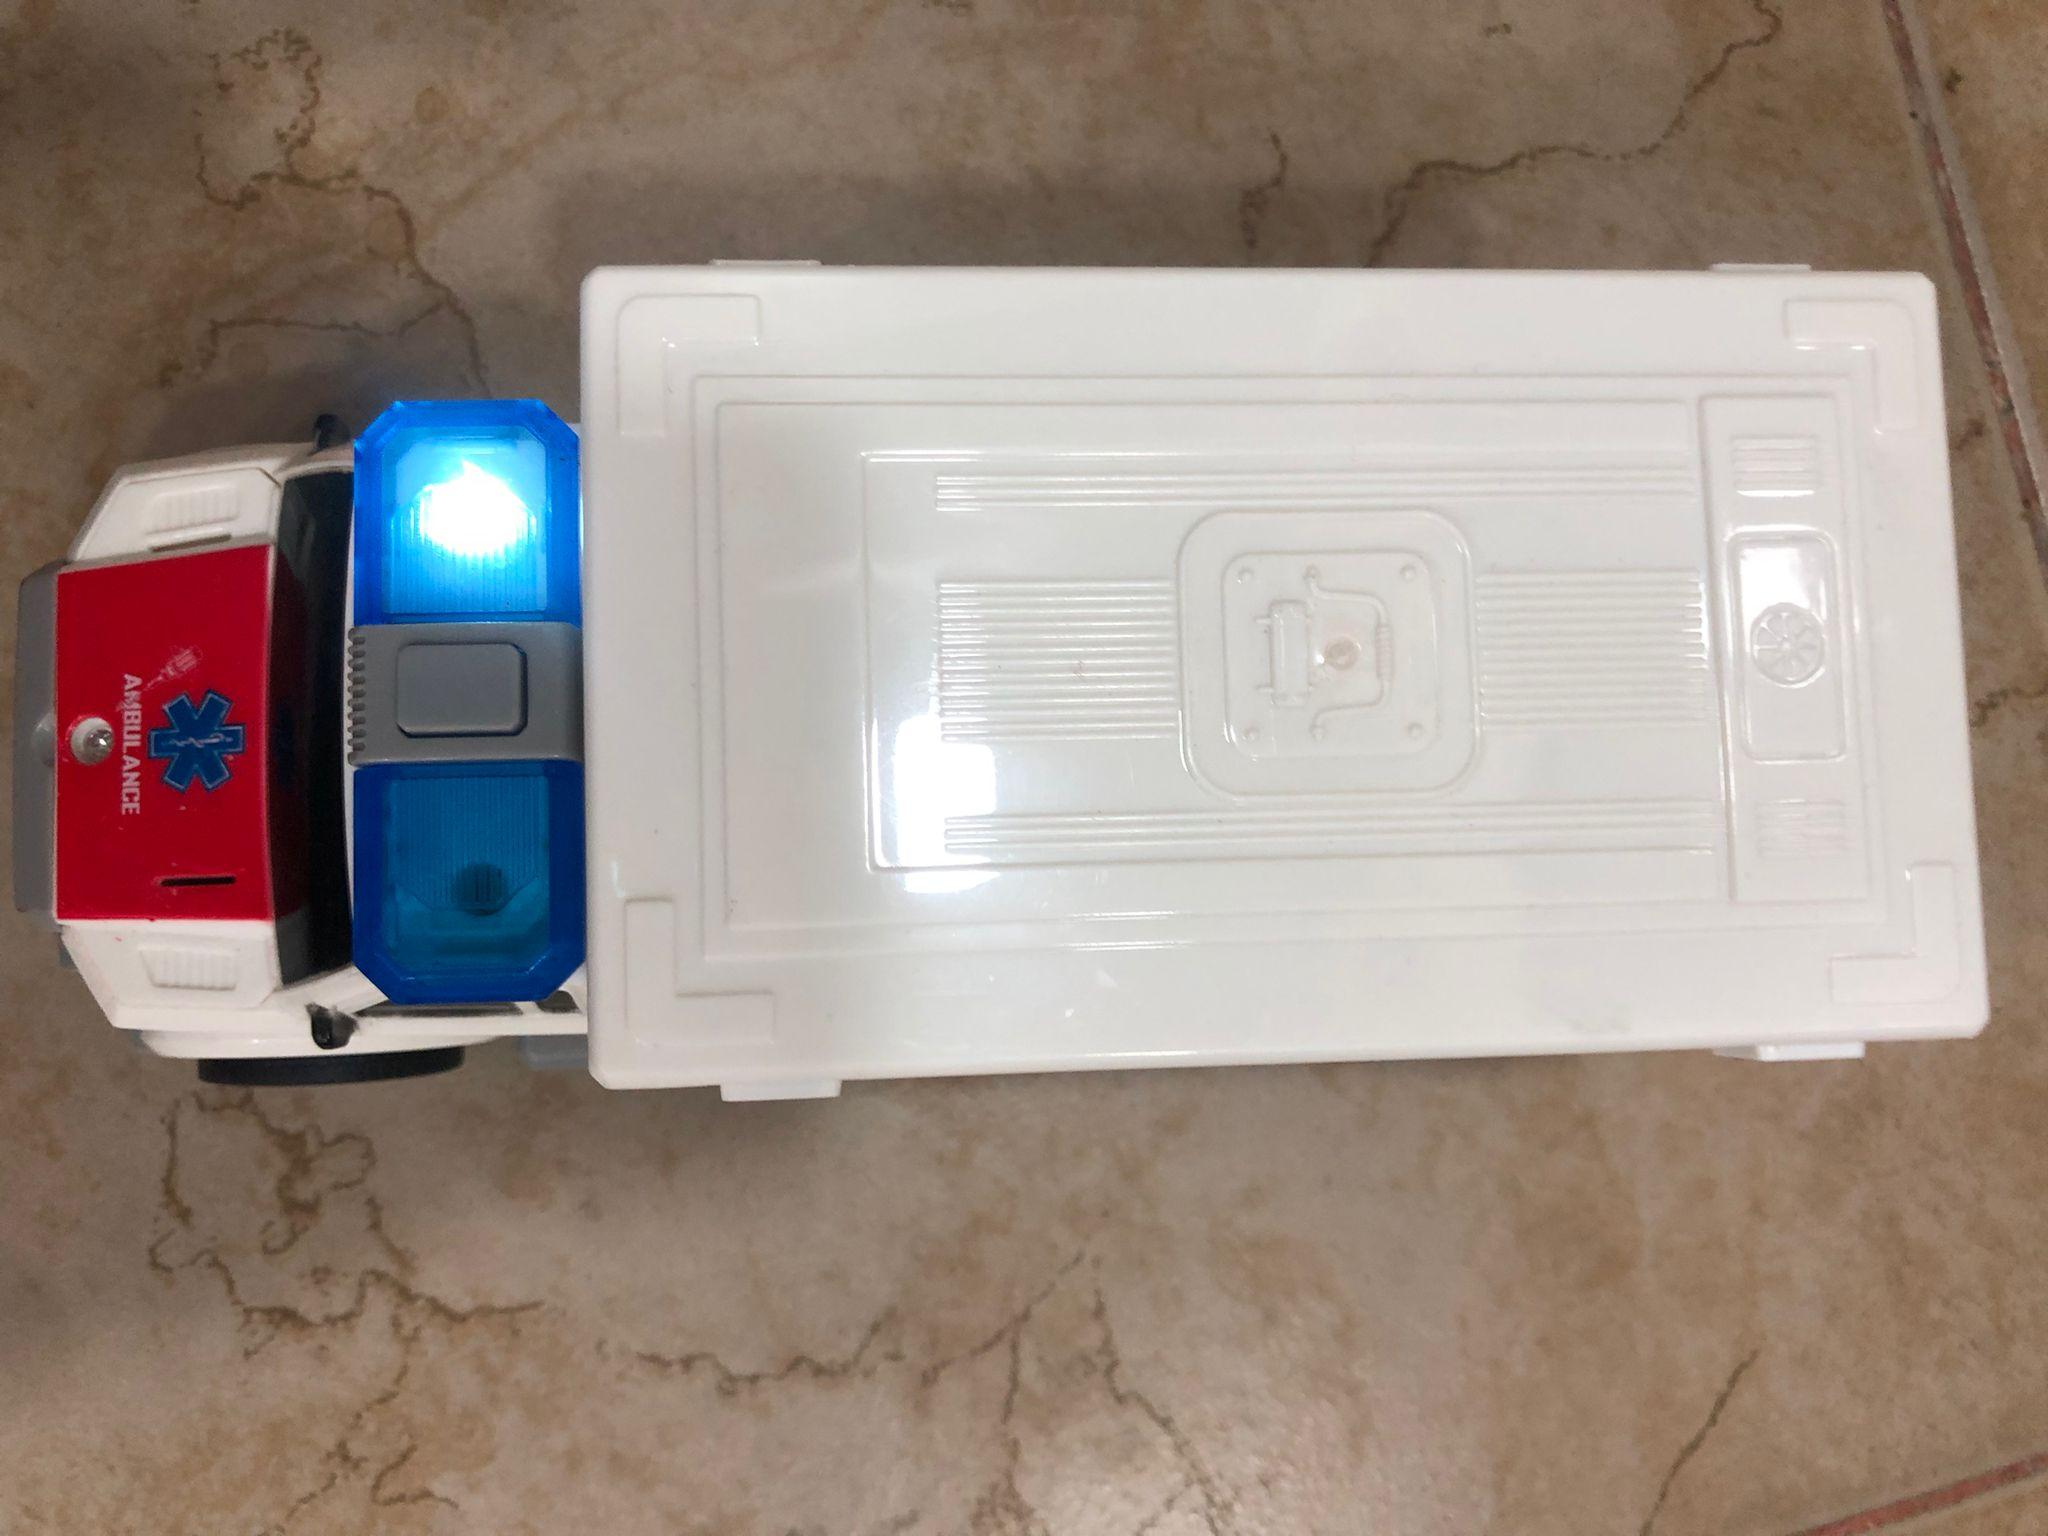ambulance_on: (23, 261, 1995, 1110)
